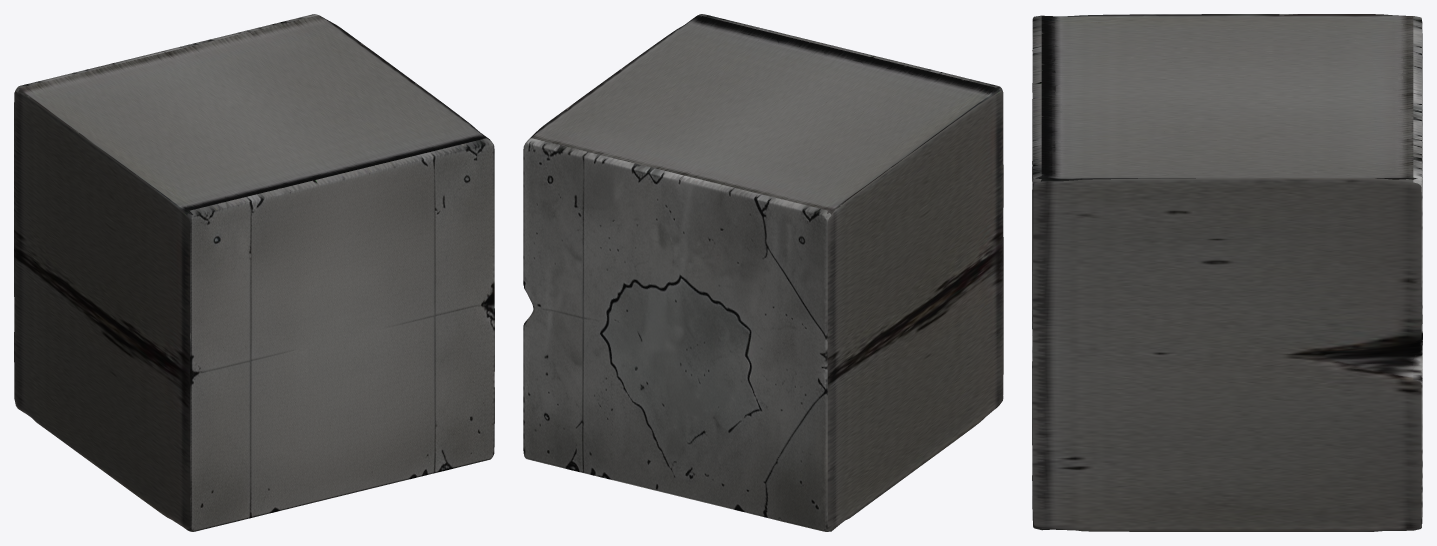
File: wall-concrete-damaged.glb
The picture shows the model from 3 angles, left to right: view 1: azimuth 30°, elevation 25°; view 2: azimuth 150°, elevation 25°; view 3: azimuth 270°, elevation 25°; orthographic projection. The views are drawn at different scales.
Parts seen in each view (by area): view 1: tmp4rzh7e8m.ply; view 2: tmp4rzh7e8m.ply; view 3: tmp4rzh7e8m.ply.
Part boxes in pixels (x1,y1,x2,y2): tmp4rzh7e8m.ply: (14, 14, 494, 531); tmp4rzh7e8m.ply: (523, 14, 1003, 531); tmp4rzh7e8m.ply: (1032, 14, 1422, 531).
Bounding box in the file's own units: 1 × 1 × 1.
Materials: 1 (1 with a texture image).
